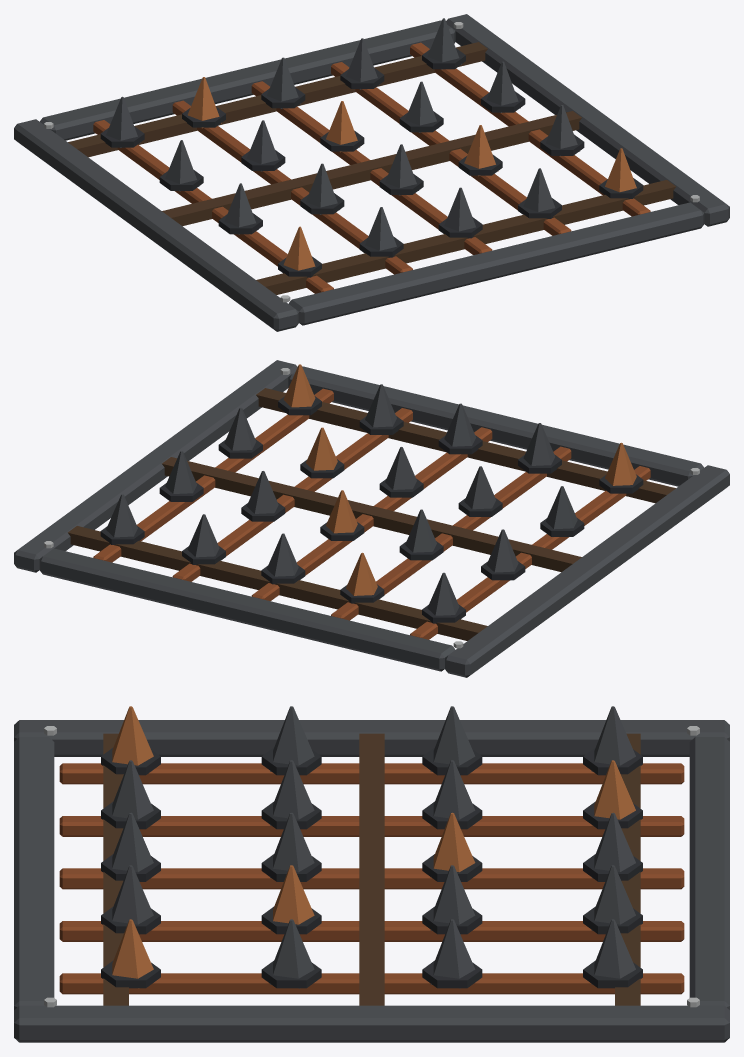
The model's file is piece_spike_trap.fbx.
The picture shows the model from 3 angles, top to bottom: view 1: azimuth 30°, elevation 25°; view 2: azimuth 150°, elevation 25°; view 3: azimuth 270°, elevation 25°; orthographic projection. The views are drawn at different scales.
Parts seen in each view (by area): view 1: piece_spike_trap; view 2: piece_spike_trap; view 3: piece_spike_trap.
Boxes of the visible parts, left/top/right/bottom form: piece_spike_trap: left=14, top=14, right=729, bottom=331; piece_spike_trap: left=14, top=360, right=729, bottom=677; piece_spike_trap: left=14, top=706, right=729, bottom=1042.
Bounding box in the file's own units: 1.96 × 0.2425 × 1.96.
